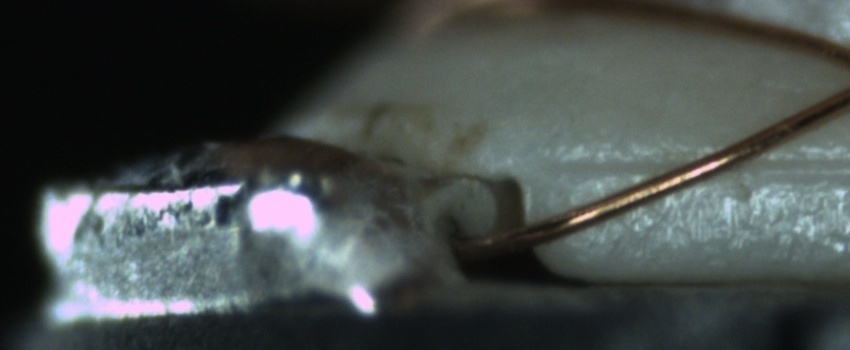DL: (561, 133, 847, 196)
